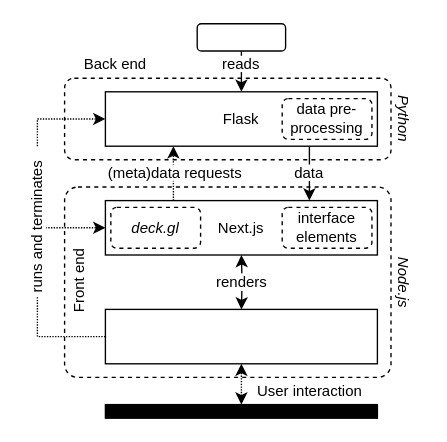
Some shapes in this 447 by 442 pixel diagram are drawn without their labels. The shapes that lost their labels are listed below. From the top down, each one's centre as x and y in pixels, then its label:
At [241,36]: "User data".
At [240,336]: "Electron".
